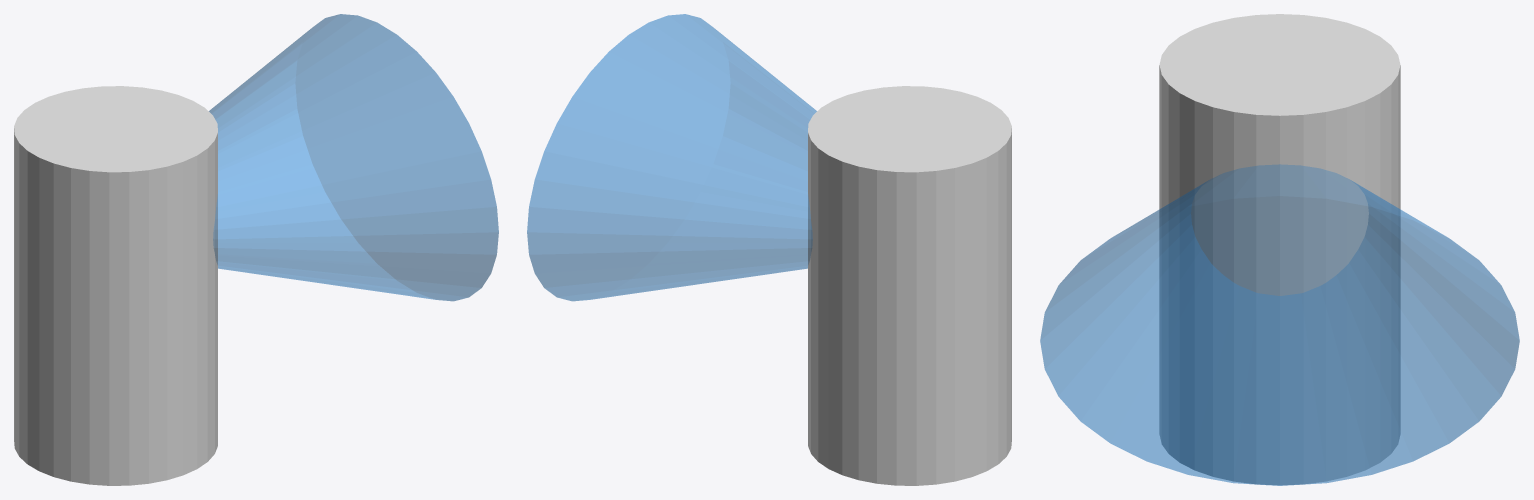
File: human_representation.glb
The picture shows the model from 3 angles, left to right: view 1: azimuth 30°, elevation 25°; view 2: azimuth 150°, elevation 25°; view 3: azimuth 270°, elevation 25°; orthographic projection. The views are drawn at different scales.
Visible parts, largest first — view 1: Cylinder, Cone; view 2: Cylinder, Cone; view 3: Cone, Cylinder.
Boxes of the visible parts, box(x1,y1,x2,y2) form: Cylinder: box(14, 86, 217, 485); Cone: box(209, 14, 498, 301); Cylinder: box(808, 86, 1011, 485); Cone: box(527, 14, 816, 301); Cone: box(1040, 164, 1519, 485); Cylinder: box(1159, 14, 1400, 484).
Bounding box in the file's own units: 4.17 × 3.66 × 3.98.
